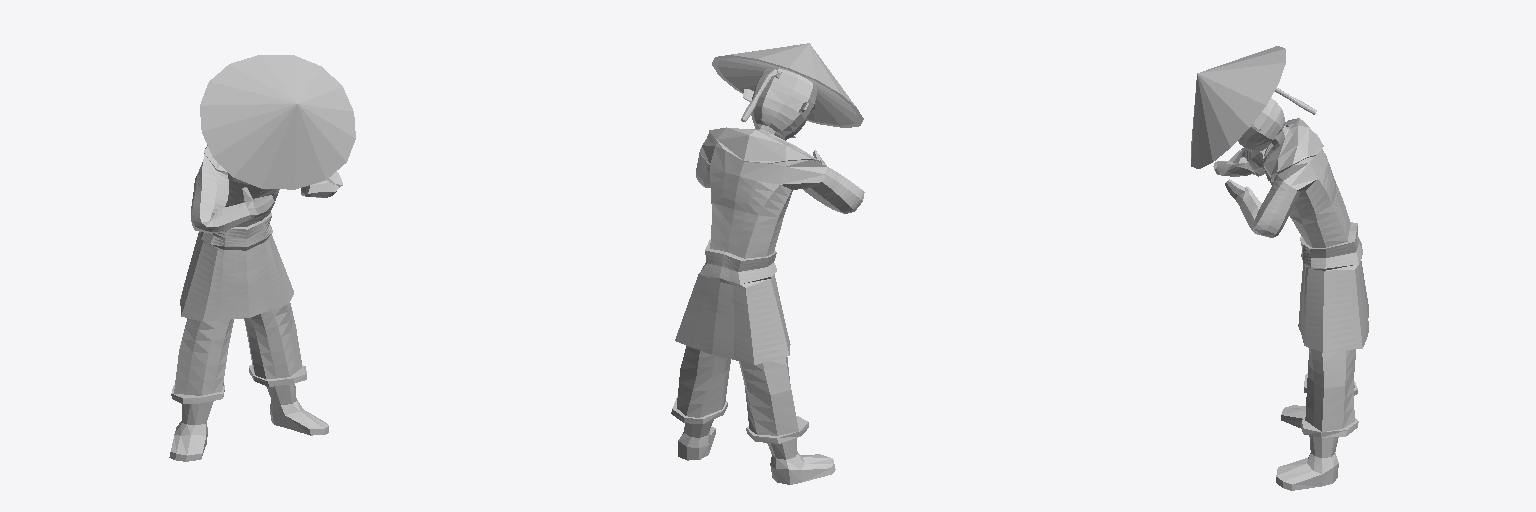
File: ChinoCelebracion_000253.obj
3 renders of one model, left to right at view 1: azimuth 30°, elevation 25°; view 2: azimuth 150°, elevation 25°; view 3: azimuth 270°, elevation 25°, orthographic.
Visible parts, largest first — view 1: Chino_ChinoH; view 2: Chino_ChinoH; view 3: Chino_ChinoH.
Part boxes in pixels (x1,y1,x2,y2): Chino_ChinoH: (169, 55, 355, 461); Chino_ChinoH: (671, 43, 864, 484); Chino_ChinoH: (1191, 46, 1368, 490).
Size of the model in its own units: 3.26 by 7.87 by 3.23.